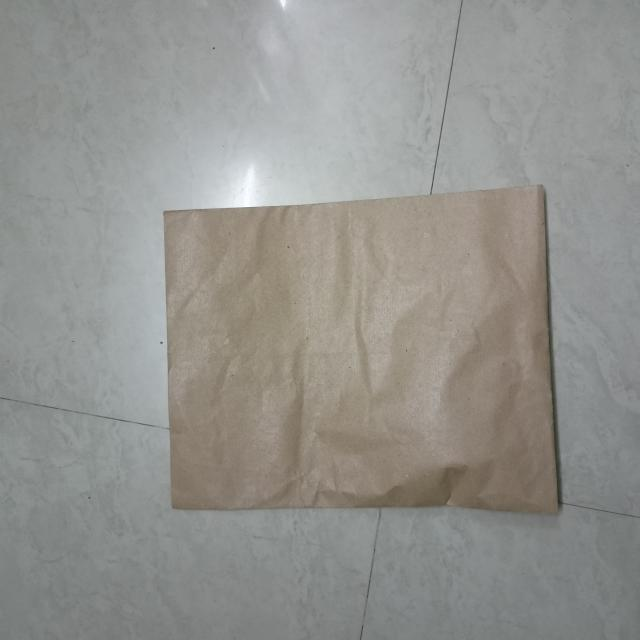box: (165, 187, 564, 516)
